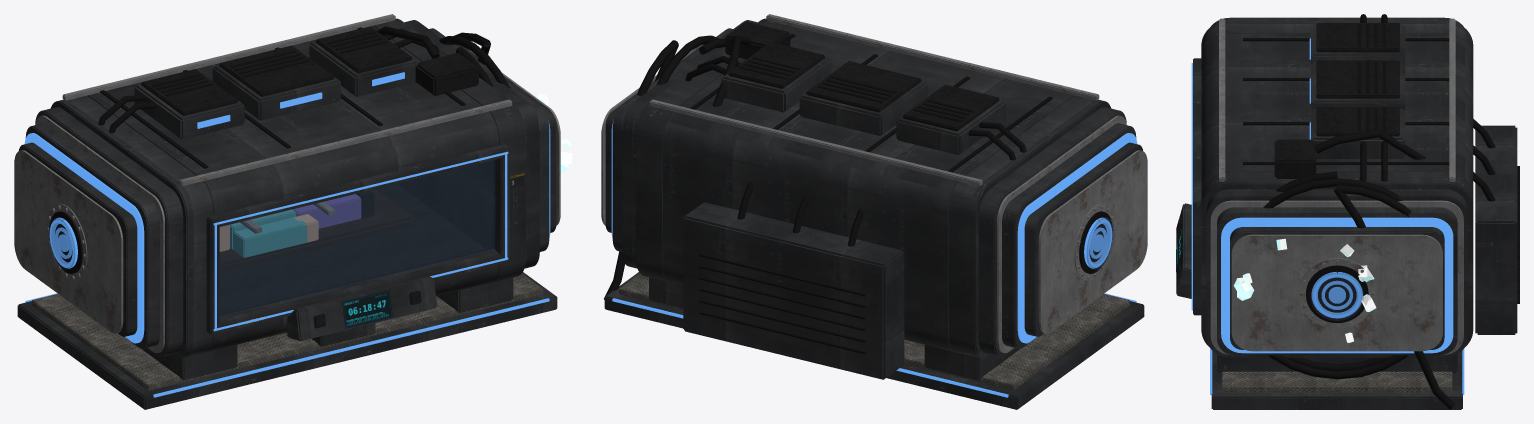
File: capsule_herobrine.gltf
3 views of the same model, side by side, from view 1: azimuth 30°, elevation 25°; view 2: azimuth 150°, elevation 25°; view 3: azimuth 270°, elevation 25° (orthographic).
Visible parts, largest first — view 1: Body, Glass, Emit_Frame, Emit_Base, Screen, Port; view 2: Body, Port, Emit_Base; view 3: Body, Port, Shards, Emit_Frame.
Part boxes in pixels (bbox=[...]): Body: bbox=[14, 14, 560, 409]; Glass: bbox=[220, 160, 494, 316]; Emit_Frame: bbox=[213, 151, 508, 331]; Emit_Base: bbox=[25, 293, 549, 397]; Screen: bbox=[342, 290, 392, 328]; Port: bbox=[49, 217, 77, 268]; Body: bbox=[601, 14, 1147, 409]; Port: bbox=[1084, 217, 1112, 268]; Emit_Base: bbox=[612, 293, 1136, 397]; Body: bbox=[1176, 14, 1519, 409]; Port: bbox=[1311, 272, 1362, 318]; Shards: bbox=[1233, 238, 1376, 342]; Emit_Frame: bbox=[1191, 63, 1192, 310].
Bounding box in the file's own units: 5.06 × 2.54 × 3.29.
Materials: 18 (10 with a texture image).
